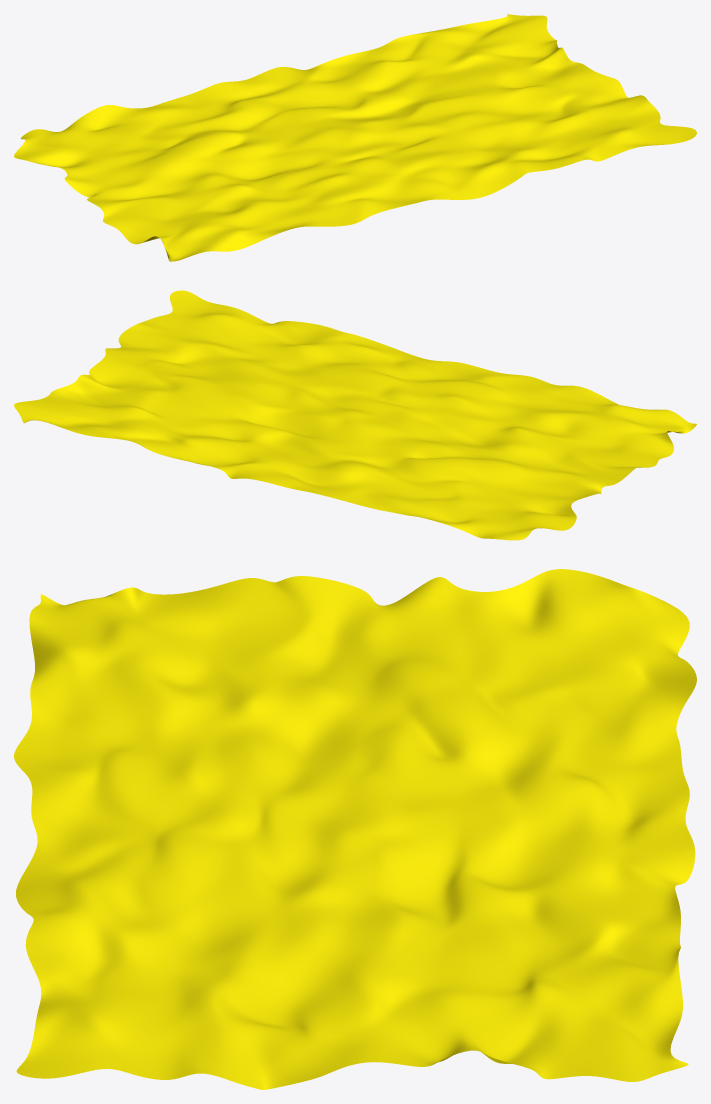
The model's file is floor.glb.
3 views of the same model, one above another, from view 1: azimuth 30°, elevation 25°; view 2: azimuth 150°, elevation 25°; view 3: azimuth 270°, elevation 25° (orthographic). The views are drawn at different scales.
Visible parts, largest first — view 1: Plane; view 2: Plane; view 3: Plane.
Part boxes in pixels (x1=…): Plane: x1=14, y1=14, x2=696, y2=261; Plane: x1=14, y1=290, x2=696, y2=540; Plane: x1=14, y1=569, x2=696, y2=1089.
Bounding box in the file's own units: 32.62 × 0.7968 × 18.47.
